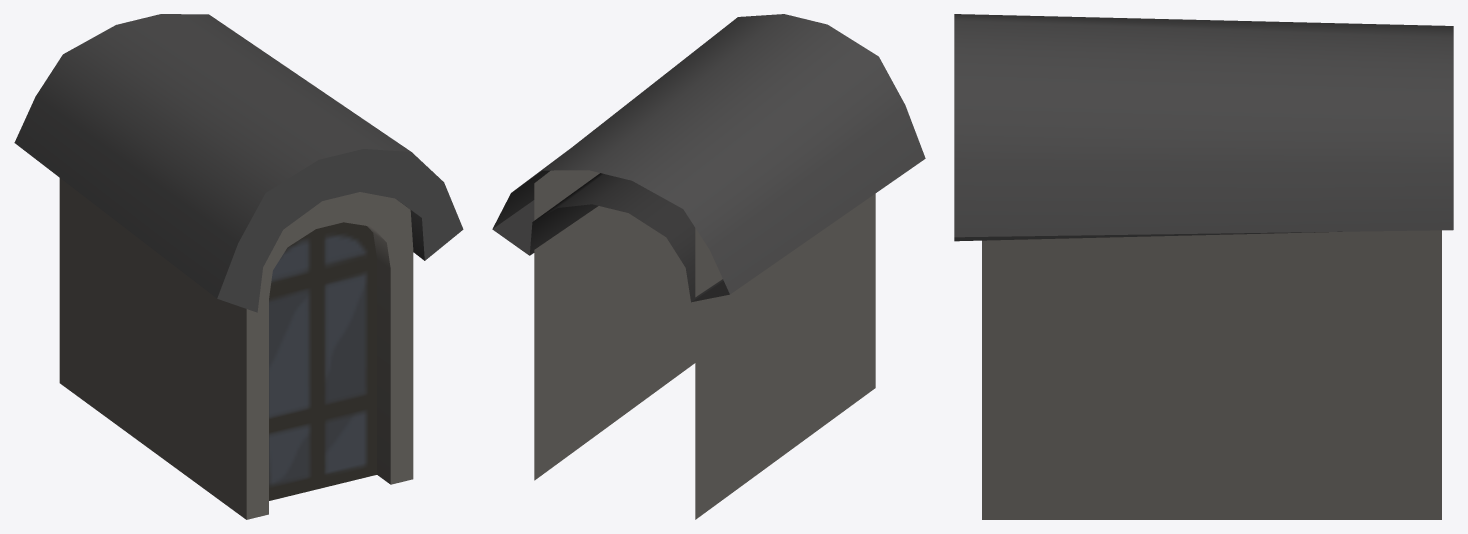
Rendered from Window_F01.fbx.
3 renders of one model, left to right at view 1: azimuth 30°, elevation 25°; view 2: azimuth 150°, elevation 25°; view 3: azimuth 270°, elevation 25°, orthographic. The views are drawn at different scales.
Parts seen in each view (by area): view 1: Window_F1; view 2: Window_F1; view 3: Window_F1.
Part boxes in pixels (left/top/right/bottom): Window_F1: left=14, top=14, right=463, bottom=519; Window_F1: left=492, top=14, right=925, bottom=519; Window_F1: left=954, top=14, right=1453, bottom=519.
Size of the model in its own units: 99.62 by 137 by 142.
Materials: 1 (1 with a texture image).
